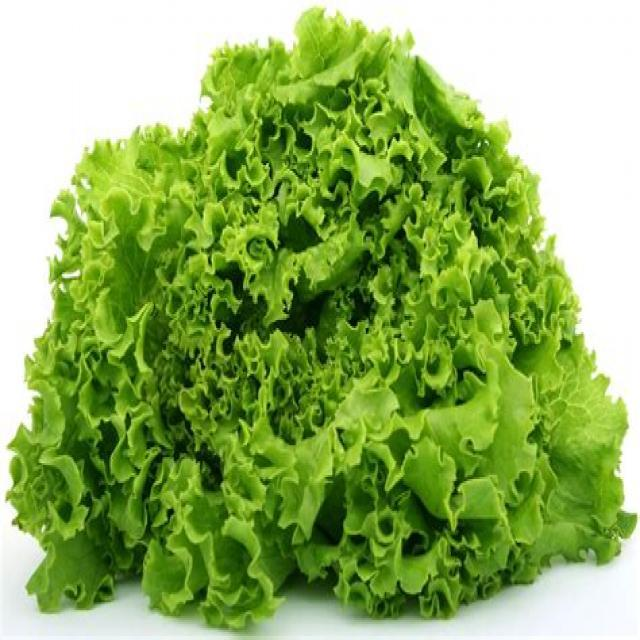Lettuce: (20, 7, 632, 619)
